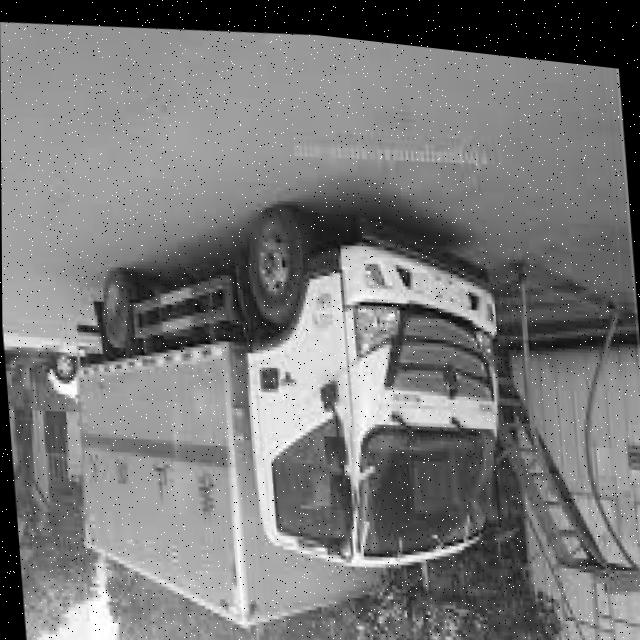truck: (216, 167, 527, 598)
